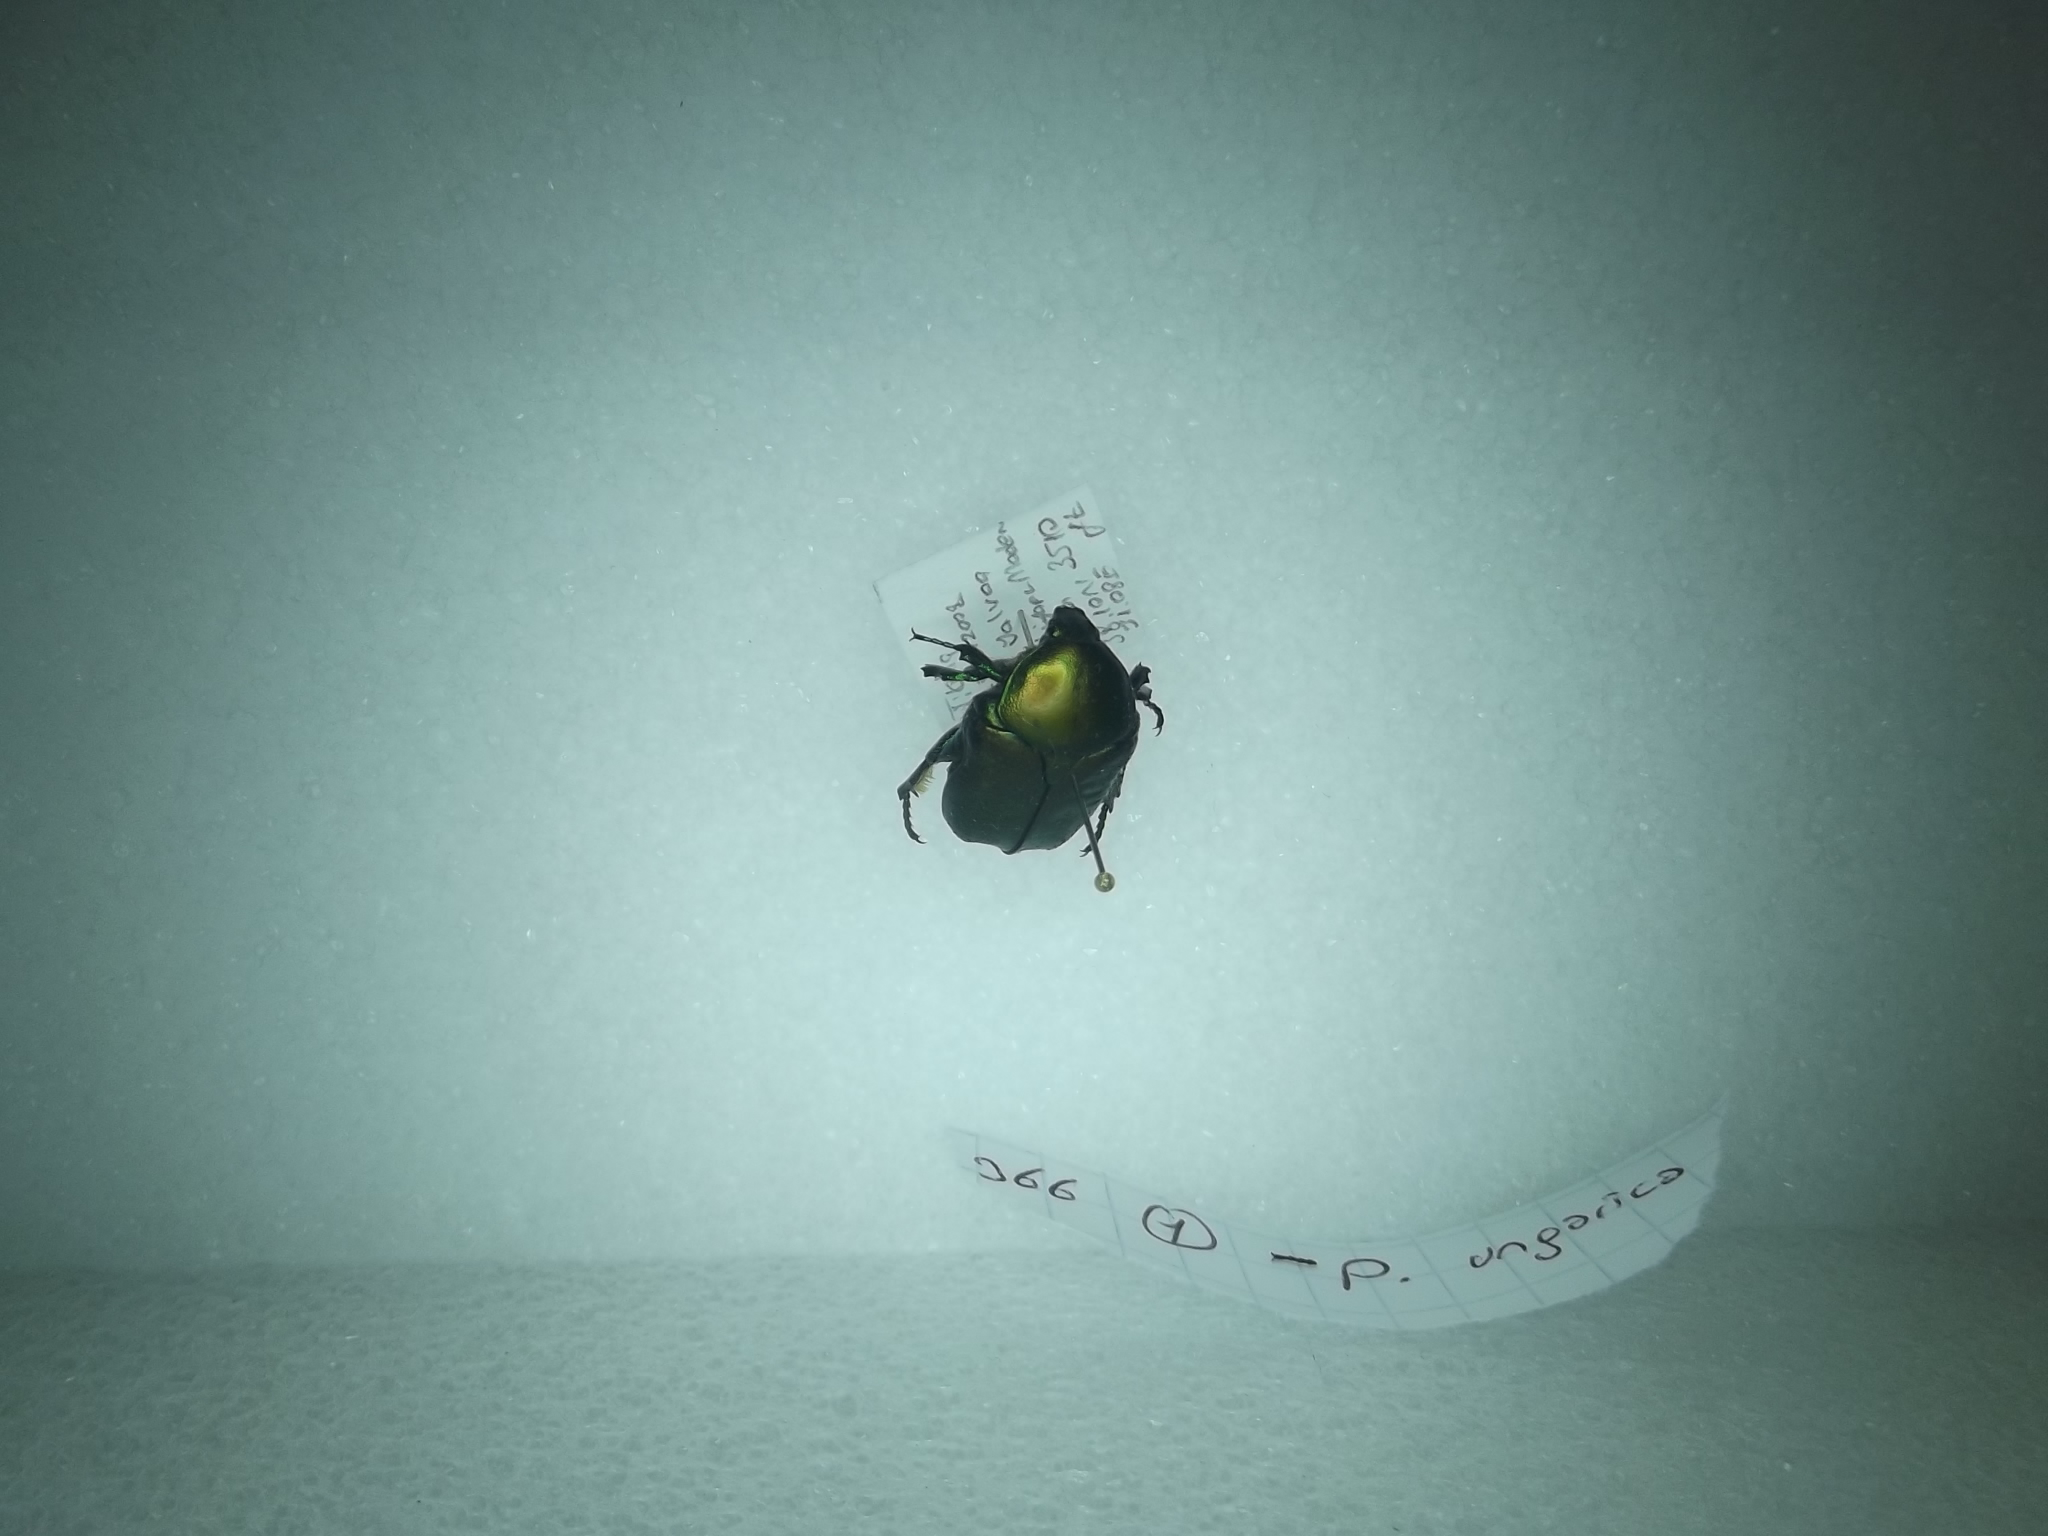Protaetia_ungarica_americana: (890, 578, 1192, 878)
